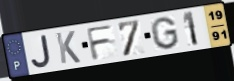1: (182, 9, 200, 48)
7: (117, 18, 143, 58)
F: (85, 23, 115, 63)
G: (149, 16, 181, 51)
J: (29, 33, 53, 69)
K: (54, 30, 82, 66)
